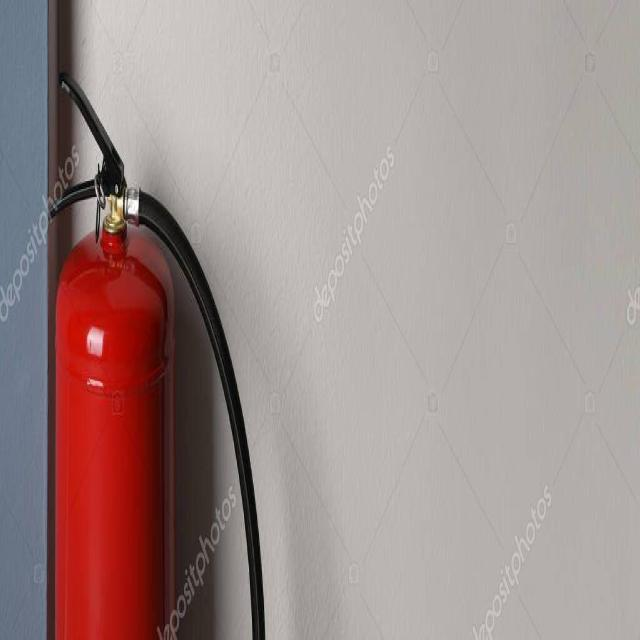fire_extinguisher: (42, 69, 270, 638)
